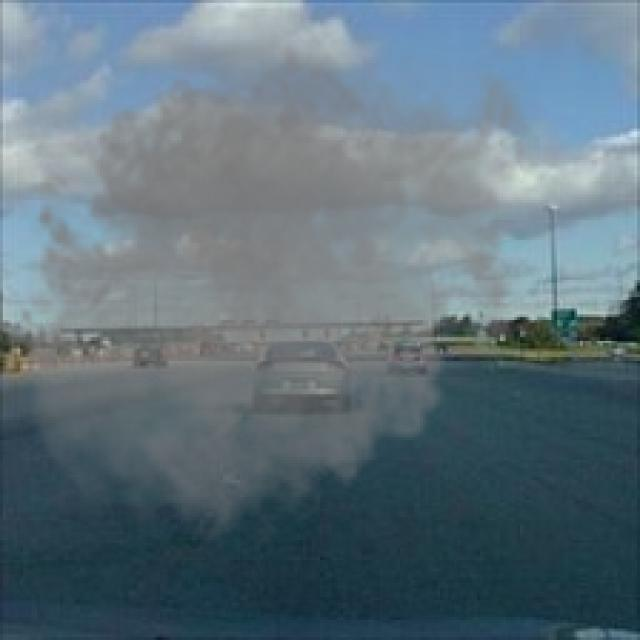smoke: (6, 8, 548, 563)
